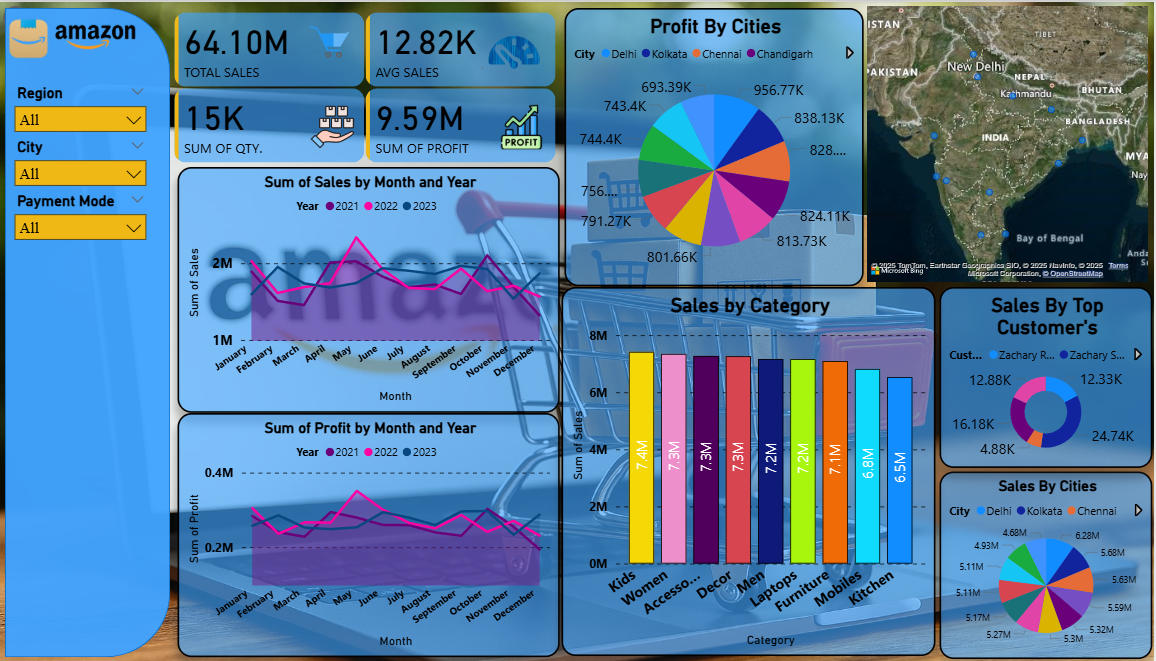

The dashboard page shown, as its layout file describes it:
{"tool":"powerbi","page":{"name":"Page 1","canvas":[1400,800],"ordinal":0},"visuals":[{"type":"map","fields":{"Category":["Raw Data.City"]},"box":[1047.9,0,351.4,345],"z":0},{"type":"lineChart","fields":{"Category":["Raw Data.Order Date.Variation.Date Hierarchy.Month","Raw Data.Order Date.Variation.Date Hierarchy.Day"],"Y":["Raw Data.Sales"],"Series":["Raw Data.Order Date.Variation.Date Hierarchy.Year"]},"box":[215.6,200.2,463.6,297.7],"z":1000},{"type":"actionButton","box":[0,0,100,40],"z":2000},{"type":"lineChart","fields":{"Category":["Raw Data.Order Date.Variation.Date Hierarchy.Month","Raw Data.Order Date.Variation.Date Hierarchy.Day"],"Series":["Raw Data.Order Date.Variation.Date Hierarchy.Year"],"Y":["Raw Data.Profit"]},"box":[215.6,497.8,463.6,296],"z":3000},{"type":"shape","box":[6.8,6.8,200.2,787],"z":4000},{"type":"image","box":[0,0,80.4,94.1],"z":5000},{"type":"image","box":[59.9,8.6,114.6,63.3],"z":6000},{"type":"cardVisual","fields":{"Data":["Raw Data.Total Sales","Raw Data.Avg Sales","Raw Data.Quantity","Raw Data.Profit"]},"box":[207,6.8,472.2,193.3],"z":7000},{"type":"slicer","fields":{"Values":["Raw Data.Region"]},"box":[8.6,94.1,179.6,65],"z":8000},{"type":"slicer","fields":{"Values":["Raw Data.City"]},"box":[8.6,159.1,179.6,83.8],"z":9000},{"type":"pieChart","title":"Sales By Cities","fields":{"Category":["Raw Data.City"],"Y":["Raw Data.Sales"]},"box":[1139.4,569.7,258.3,227.5],"z":10000},{"type":"pieChart","title":"Profit By Cities","fields":{"Category":["Raw Data.City"],"Y":["Raw Data.Profit"]},"box":[686,6.8,362.7,337],"z":11000},{"type":"slicer","fields":{"Values":["Raw Data.Payment Mode"]},"box":[8.6,225.8,179.6,83.8],"z":12000},{"type":"donutChart","title":"Sales By Top Customer''s ","fields":{"Y":["Raw Data.Sales"],"Series":["Raw Data.Customer Name"]},"box":[1139.5,345,257.7,219.4],"z":13000},{"type":"columnChart","title":"Sales by Category","fields":{"Category":["Raw Data.Category"],"Y":["Raw Data.Sales"]},"box":[681.5,345,453.7,447.3],"z":14000}]}

Visuals, with their boxes in screenshot pixels (x1, y1, x2, y2), scaled from the page's 1400x800 canvas onto the 1156x661 screenshot:
map - Raw Data.City: Rect(865, 0, 1155, 285)
lineChart - Raw Data.Order Date.Variation.Date Hierarchy.Month x Raw Data.Order Date.Variation.Date Hierarchy.Day: Rect(178, 165, 561, 411)
actionButton: Rect(0, 0, 83, 33)
lineChart - Raw Data.Order Date.Variation.Date Hierarchy.Month x Raw Data.Order Date.Variation.Date Hierarchy.Day: Rect(178, 411, 561, 656)
shape: Rect(6, 6, 171, 656)
image: Rect(0, 0, 66, 78)
image: Rect(49, 7, 144, 59)
cardVisual - Raw Data.Total Sales x Raw Data.Avg Sales: Rect(171, 6, 561, 165)
slicer - Raw Data.Region: Rect(7, 78, 155, 131)
slicer - Raw Data.City: Rect(7, 131, 155, 201)
"Sales By Cities" pieChart: Rect(941, 471, 1154, 659)
"Profit By Cities" pieChart: Rect(566, 6, 866, 284)
slicer - Raw Data.Payment Mode: Rect(7, 187, 155, 256)
"Sales By Top Customer''s " donutChart: Rect(941, 285, 1154, 466)
"Sales by Category" columnChart: Rect(563, 285, 937, 655)
